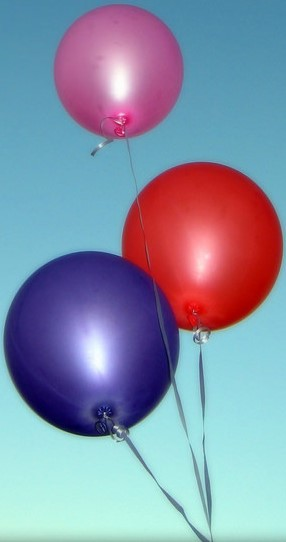Balloon: (5, 251, 180, 437), (122, 162, 282, 332), (52, 3, 183, 138)
